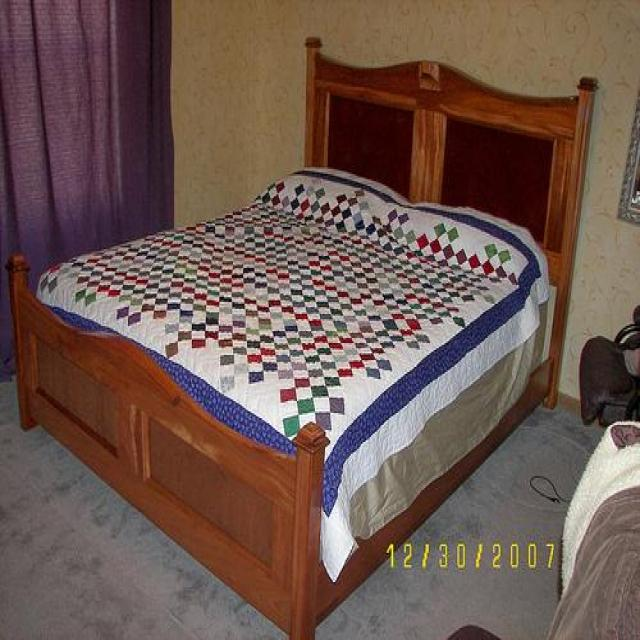bed: (5, 34, 598, 638)
